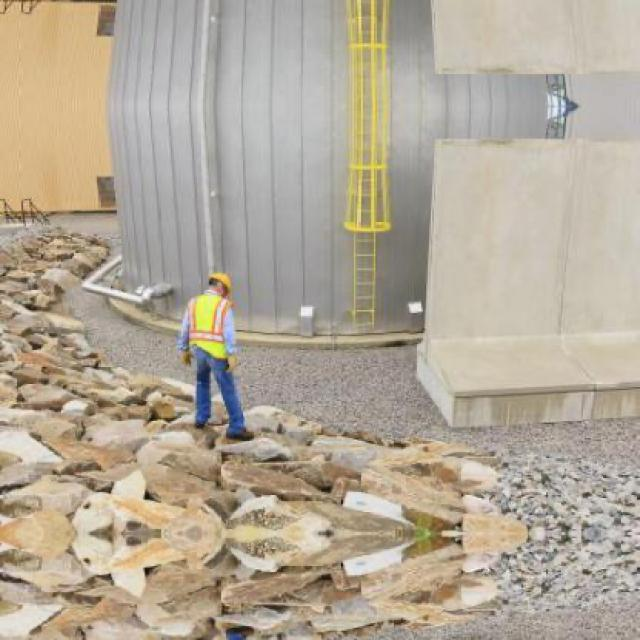Reflective-Jacket: (182, 292, 244, 370)
Safety-Helmet: (200, 264, 240, 298)
